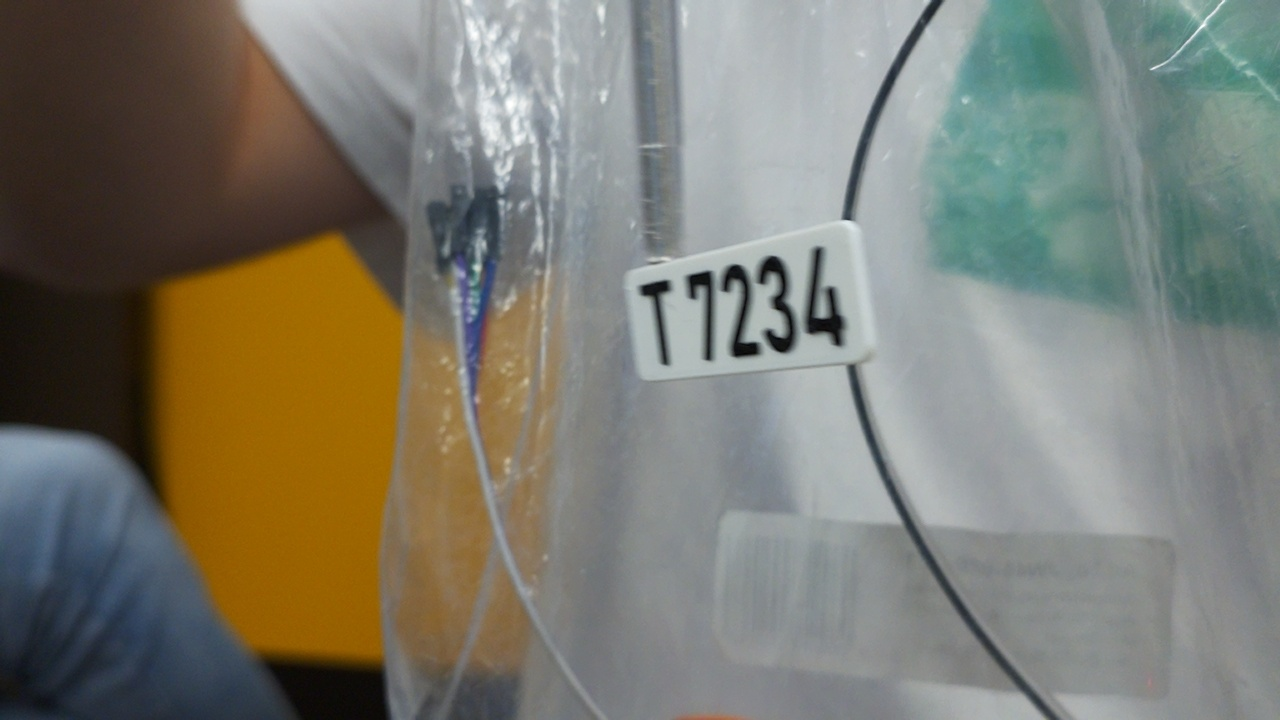license_plate: (621, 217, 881, 387)
